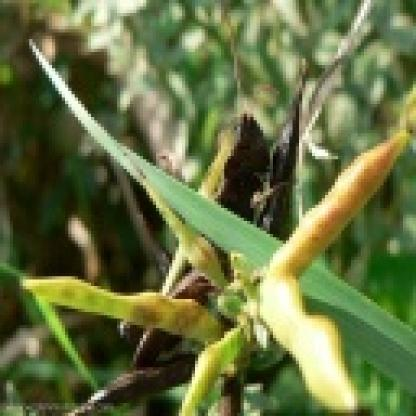grasshopper: (124, 107, 284, 358)
